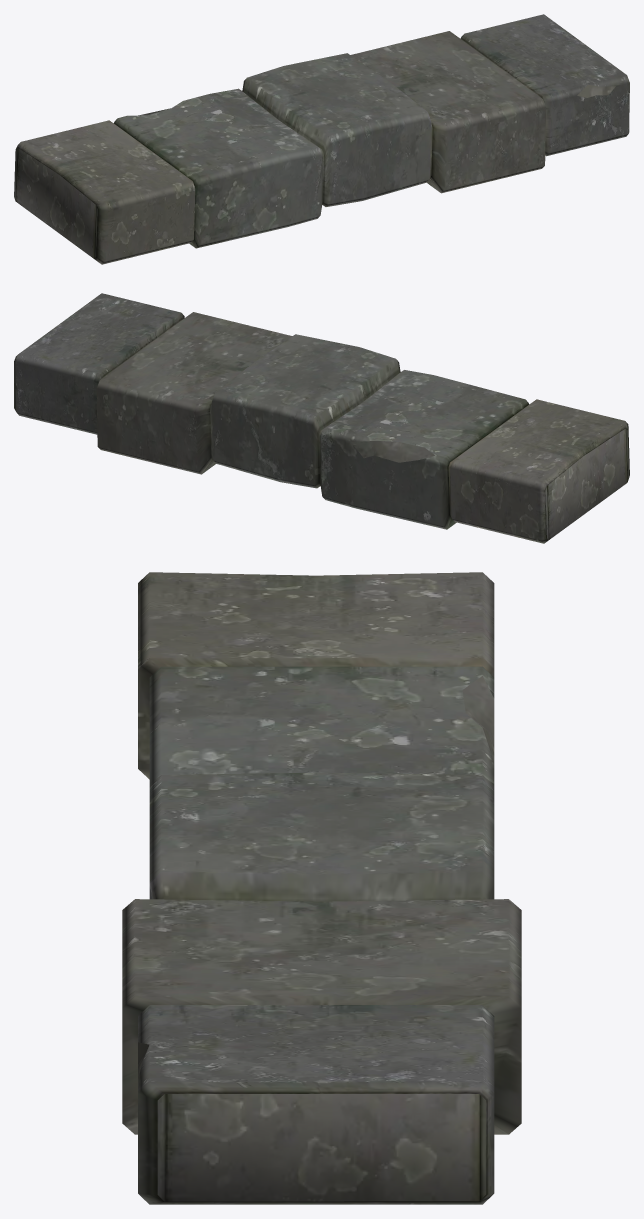
3 views of the same model, one above another, from view 1: azimuth 30°, elevation 25°; view 2: azimuth 150°, elevation 25°; view 3: azimuth 270°, elevation 25° (orthographic). The views are drawn at different scales.
Parts seen in each view (by area): view 1: SM_Human_Ruins_Window_Bottom_01_LOD0; view 2: SM_Human_Ruins_Window_Bottom_01_LOD0; view 3: SM_Human_Ruins_Window_Bottom_01_LOD0.
Boxes of the visible parts, x1,y1,x2,y2 form: SM_Human_Ruins_Window_Bottom_01_LOD0: [14, 14, 629, 264]; SM_Human_Ruins_Window_Bottom_01_LOD0: [14, 293, 629, 543]; SM_Human_Ruins_Window_Bottom_01_LOD0: [122, 572, 521, 1204].
Bounding box in the file's own units: 2 × 0.3006 × 0.649.
Materials: 1 (1 with a texture image).
